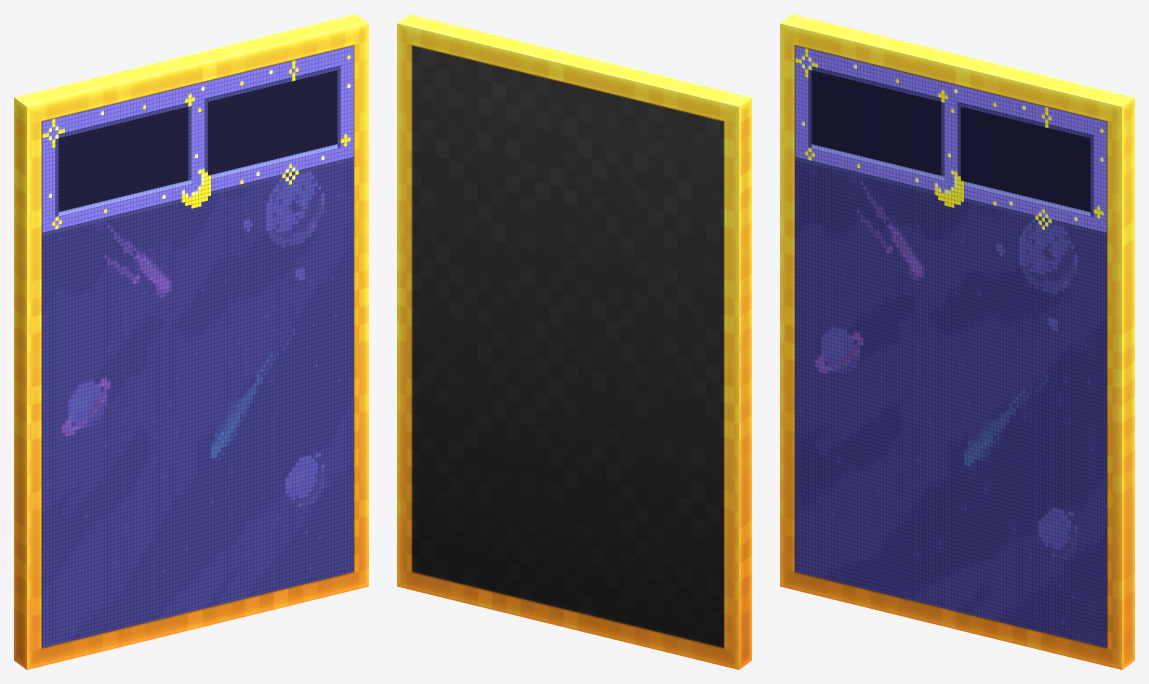
Rendered from obj_background.gltf.
3 renders of one model, left to right at view 1: azimuth 30°, elevation 25°; view 2: azimuth 150°, elevation 25°; view 3: azimuth 330°, elevation 25°, orthographic.
Parts seen in each view (by area): view 1: obj_background; view 2: obj_background; view 3: obj_background.
Part boxes in pixels (box(x1,y1,x2,y2)): obj_background: box(14, 14, 368, 669); obj_background: box(397, 14, 751, 669); obj_background: box(780, 14, 1134, 669).
Bounding box in the file's own units: 0.8436 × 1.33 × 0.0552.
2 materials, 2 textured.
